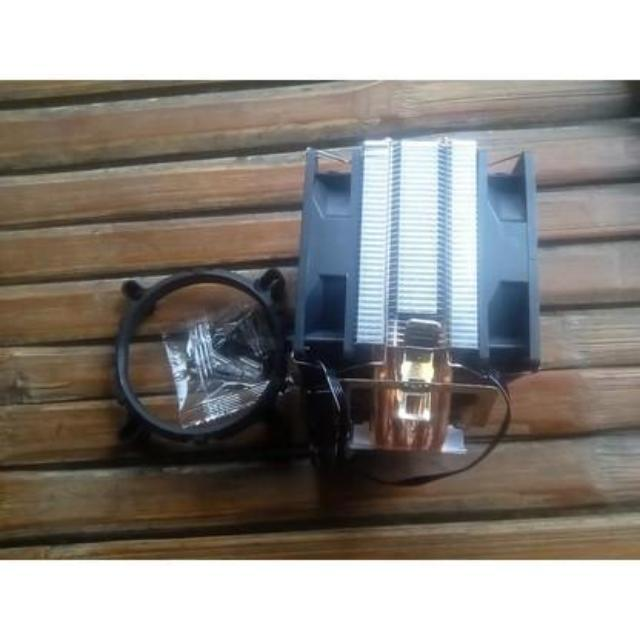CPU_Fan: (298, 132, 546, 462)
